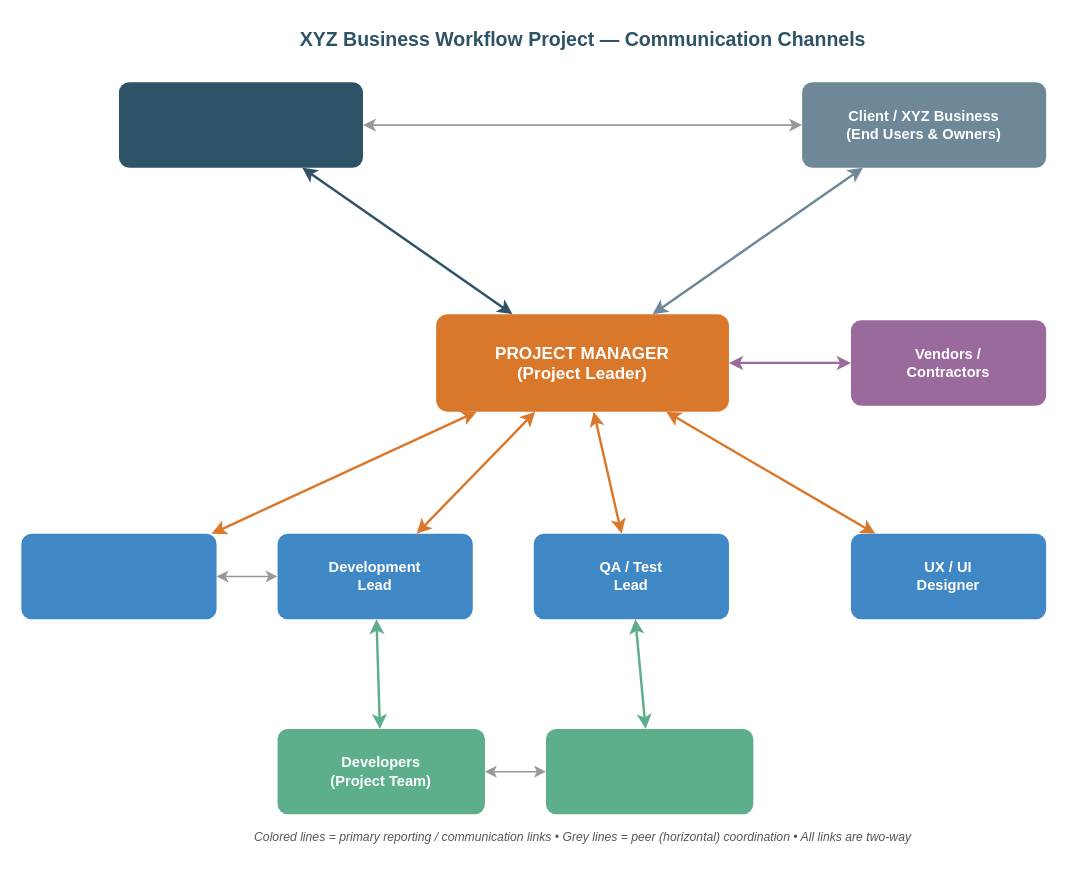
This 1066x871 diagram has some shape labels left out. The shapes that lost their labels are listed below. From the top down, each one's box as (x1, y1, x2, y2) in pixels, then its label:
(118, 82, 362, 167): Project Sponsor (Executive Owner)
(21, 533, 216, 619): Business Analyst
(545, 728, 753, 814): QA Testers (Project Team)
